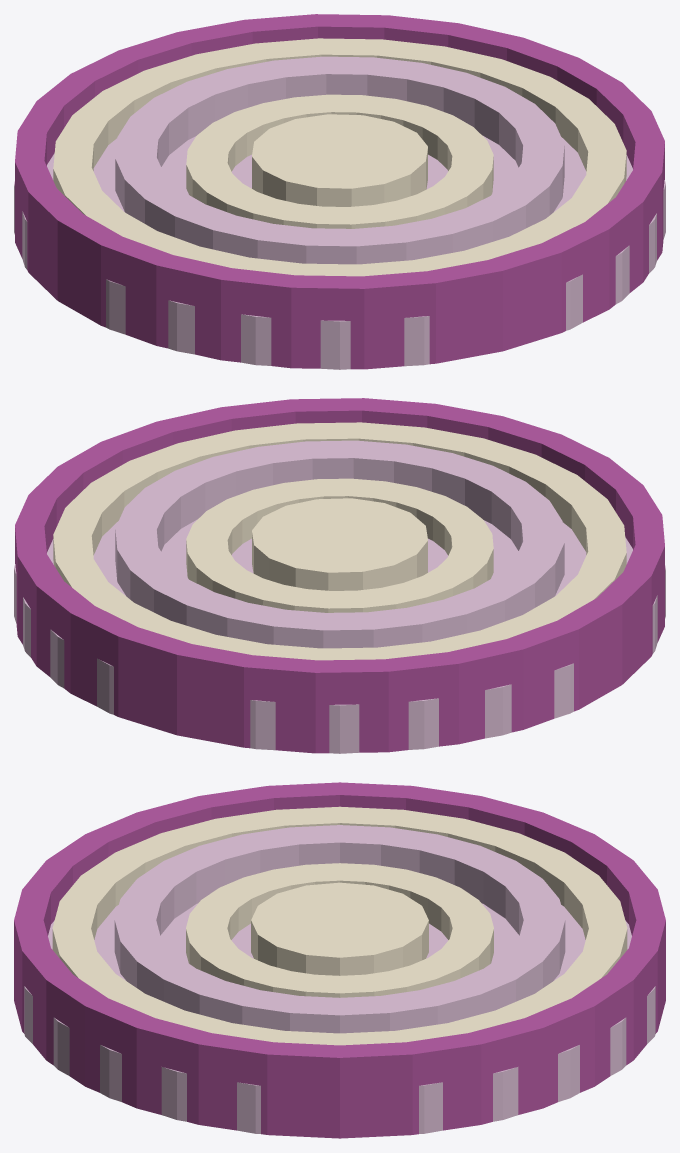
File: onion_slice.glb
3 renders of one model, top to bottom at view 1: azimuth 30°, elevation 25°; view 2: azimuth 150°, elevation 25°; view 3: azimuth 270°, elevation 25°, orthographic.
Visible parts, largest first — view 1: OnionSlice; view 2: OnionSlice; view 3: OnionSlice.
Boxes of the visible parts, x1=… form: OnionSlice: x1=14, y1=14, x2=665, y2=369; OnionSlice: x1=14, y1=398, x2=665, y2=753; OnionSlice: x1=14, y1=782, x2=665, y2=1138.
Bounding box in the file's own units: 2.2 × 0.3 × 2.2.
